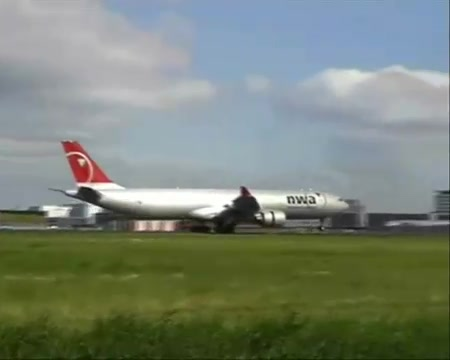aeroplane: (50, 140, 351, 234)
